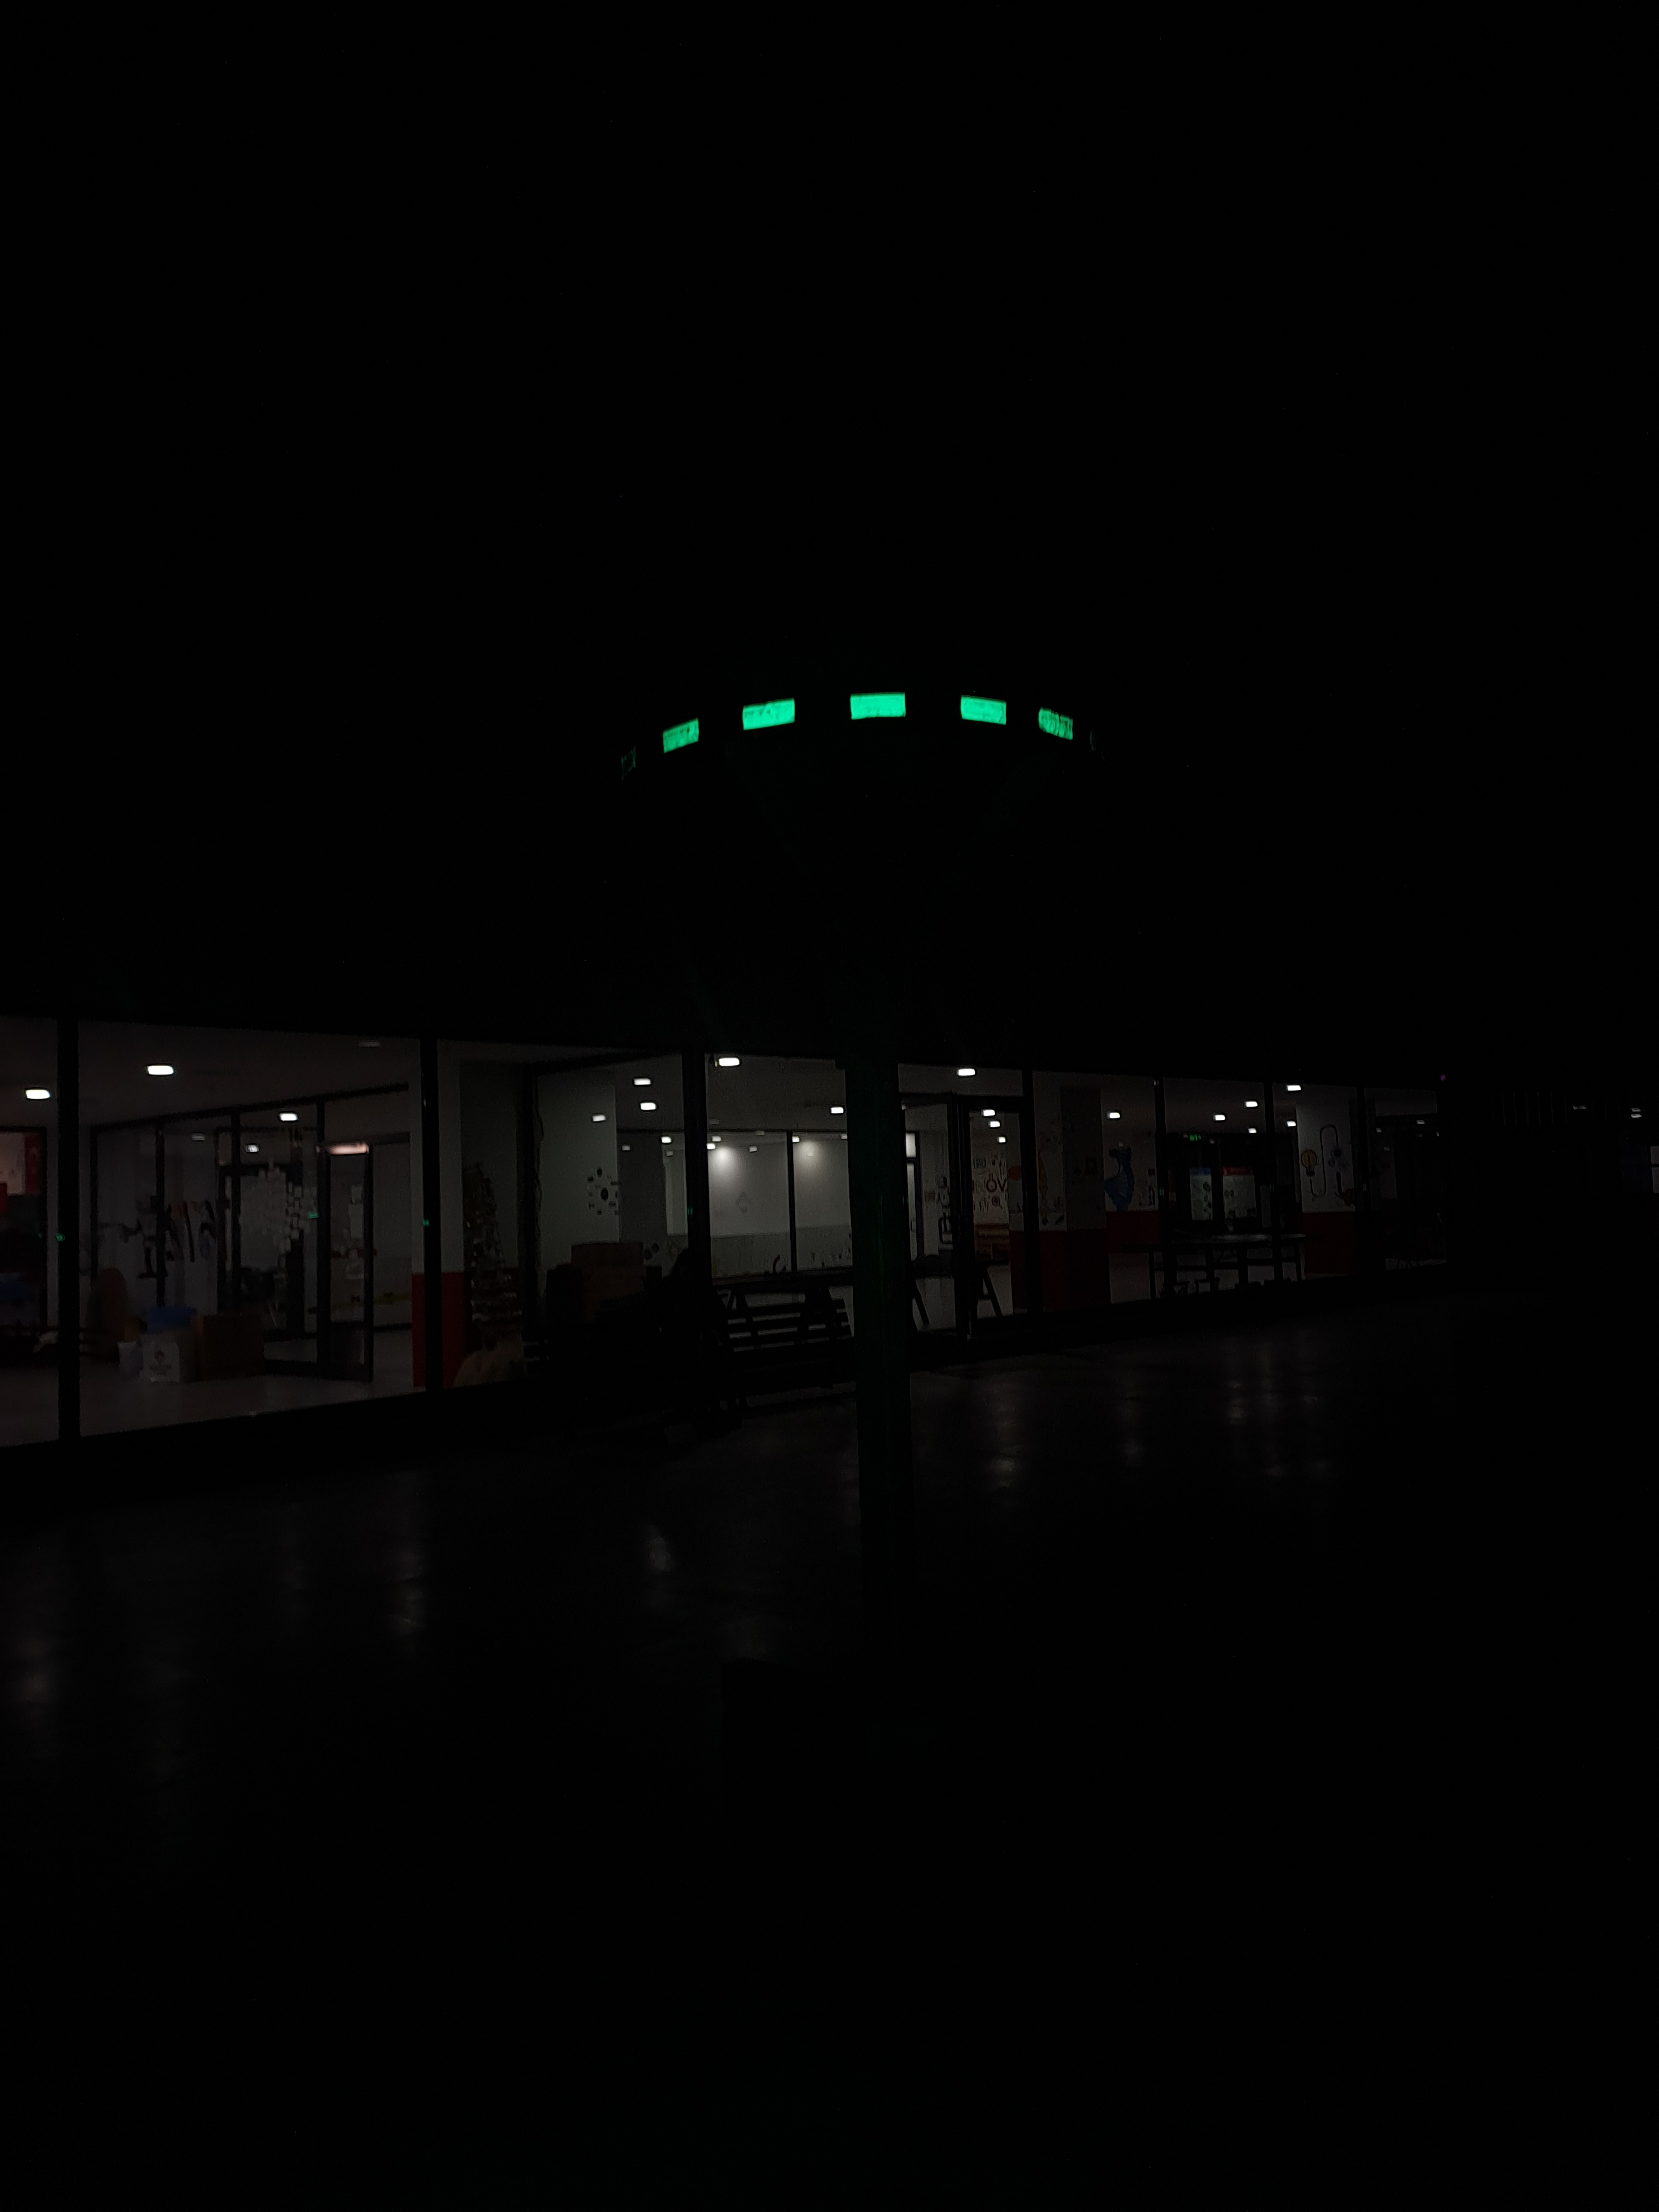hoop: (650, 690, 1086, 752)
